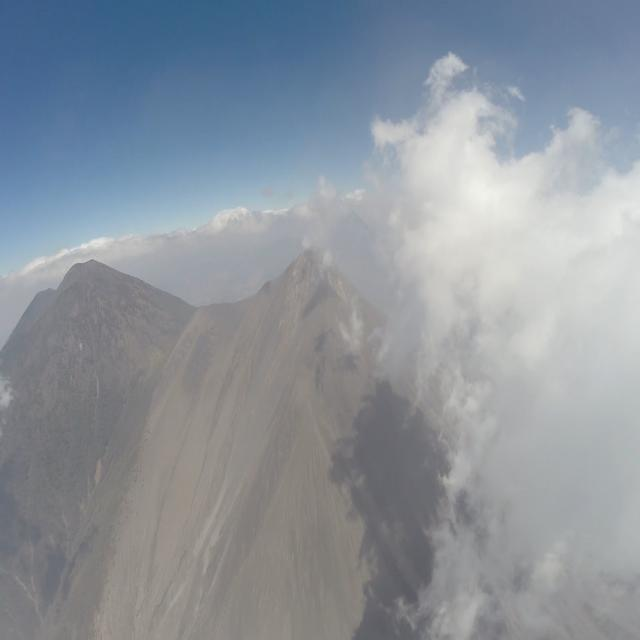Summit: (256, 244, 370, 326)
